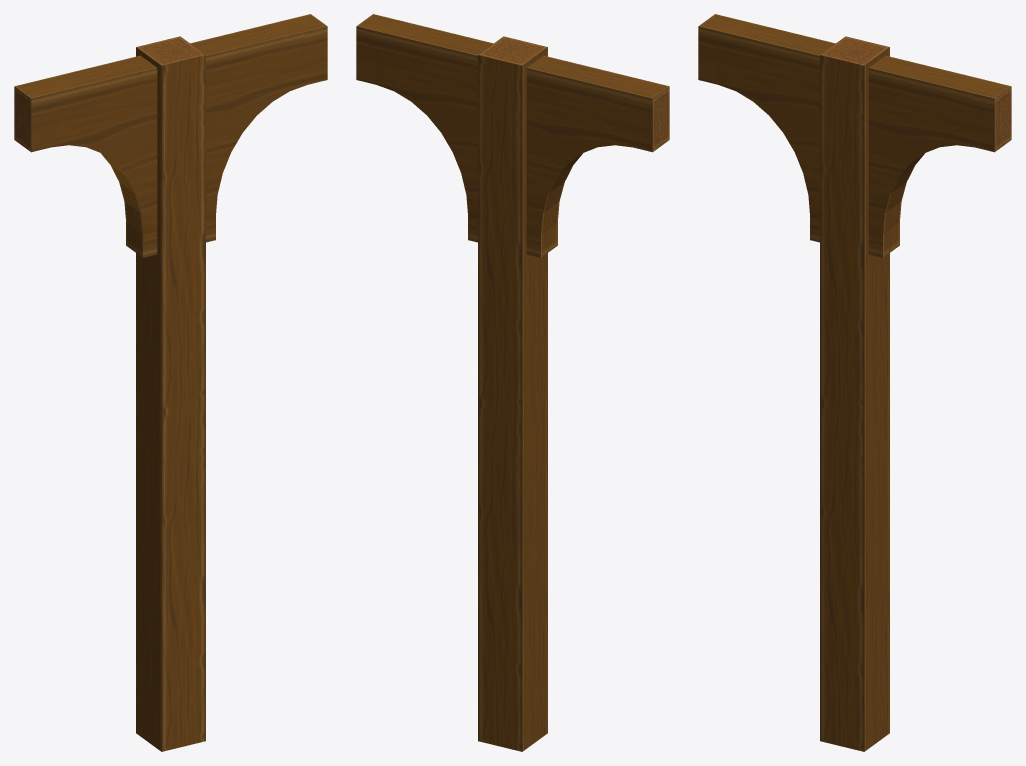
File: SM_Pillar_Exterior_02_Straight.fbx
3 views of the same model, side by side, from view 1: azimuth 30°, elevation 25°; view 2: azimuth 150°, elevation 25°; view 3: azimuth 330°, elevation 25° (orthographic).
Visible parts, largest first — view 1: SM_Pillar_Exterior_02_Straight; view 2: SM_Pillar_Exterior_02_Straight; view 3: SM_Pillar_Exterior_02_Straight.
Boxes of the visible parts, x1,y1,x2,y2 form: SM_Pillar_Exterior_02_Straight: (14,14,327,751); SM_Pillar_Exterior_02_Straight: (356,14,669,751); SM_Pillar_Exterior_02_Straight: (698,14,1011,751).
Size of the model in its own units: 1.92 by 4.24 by 0.286.
